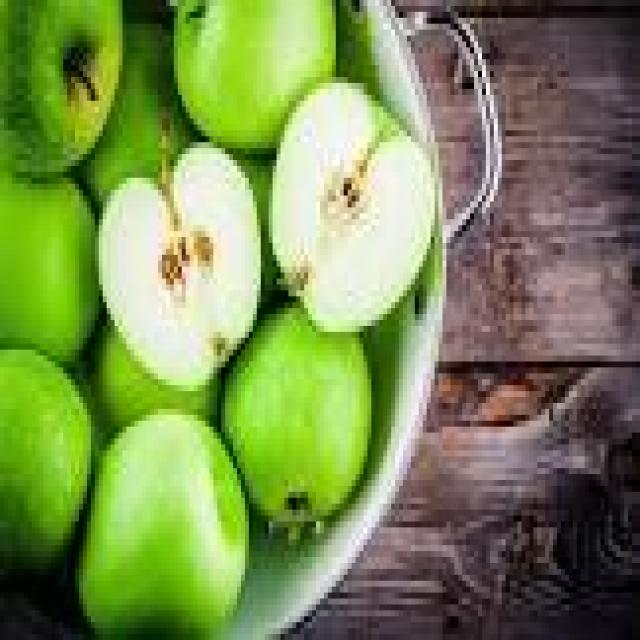apple: (269, 83, 438, 331), (99, 143, 260, 391), (80, 409, 248, 639), (222, 303, 371, 533), (174, 0, 335, 154), (0, 0, 122, 177), (0, 350, 90, 574), (83, 24, 193, 207), (0, 172, 98, 361), (87, 326, 217, 432), (238, 155, 280, 308)
